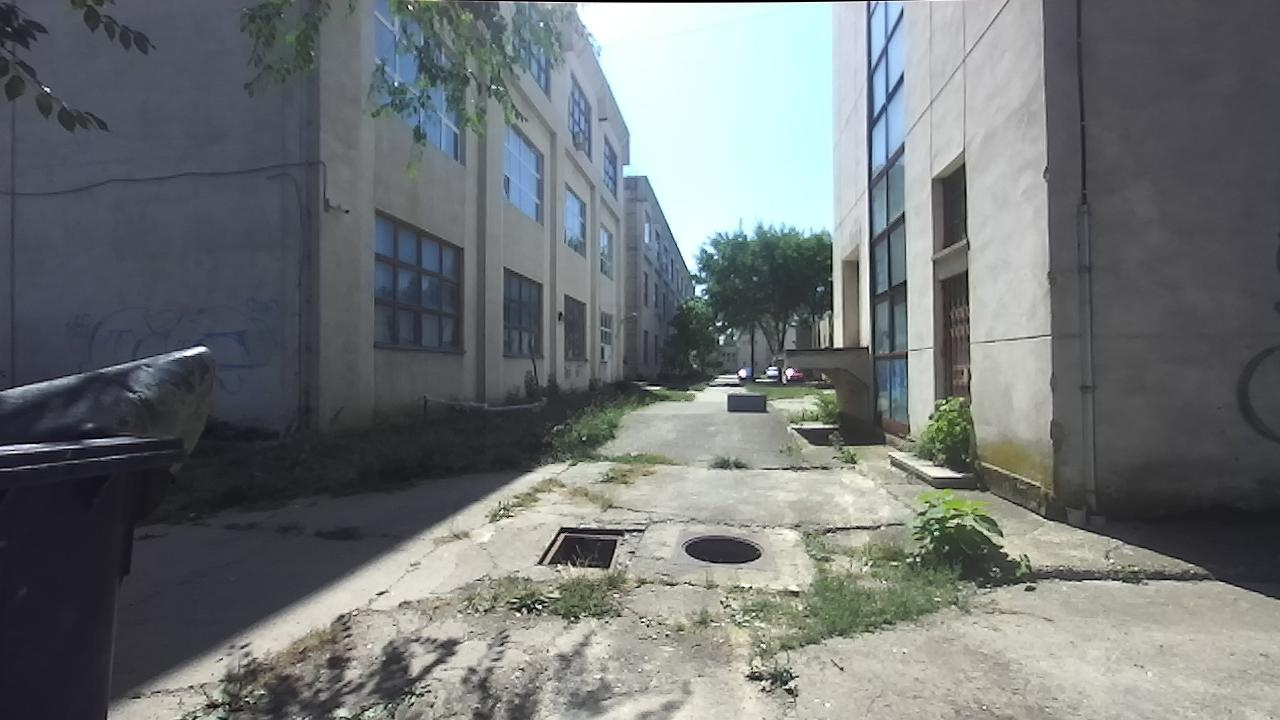drain: (530, 524, 629, 574), (674, 529, 770, 569)
